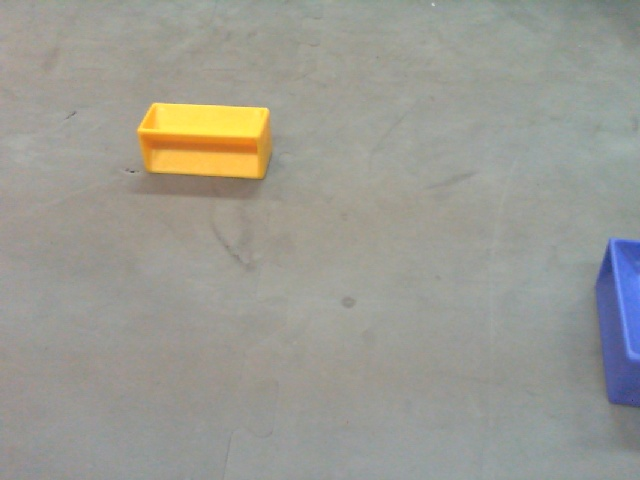BlueSample: (595, 232, 640, 406)
YellowSample: (136, 98, 276, 189)
